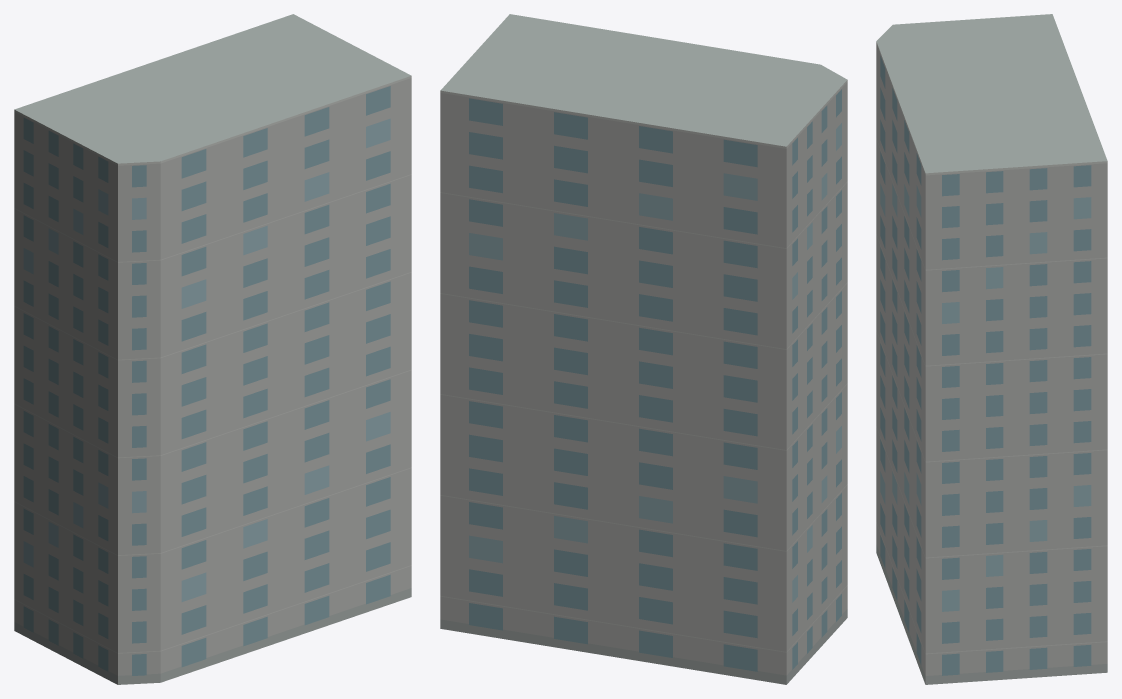
File: survey-upis-33040905.glb
3 renders of one model, left to right at view 1: azimuth 30°, elevation 25°; view 2: azimuth 150°, elevation 25°; view 3: azimuth 270°, elevation 25°, orthographic. The views are drawn at different scales.
Visible parts, largest first — view 1: survey-upis-33040905.tmp; view 2: survey-upis-33040905.tmp; view 3: survey-upis-33040905.tmp.
Boxes of the visible parts, left/top/right/bottom form: survey-upis-33040905.tmp: left=14, top=14, right=411, bottom=684; survey-upis-33040905.tmp: left=440, top=14, right=847, bottom=684; survey-upis-33040905.tmp: left=876, top=14, right=1107, bottom=684.
Bounding box in the file's own units: 39.58 × 59.22 × 24.3.
